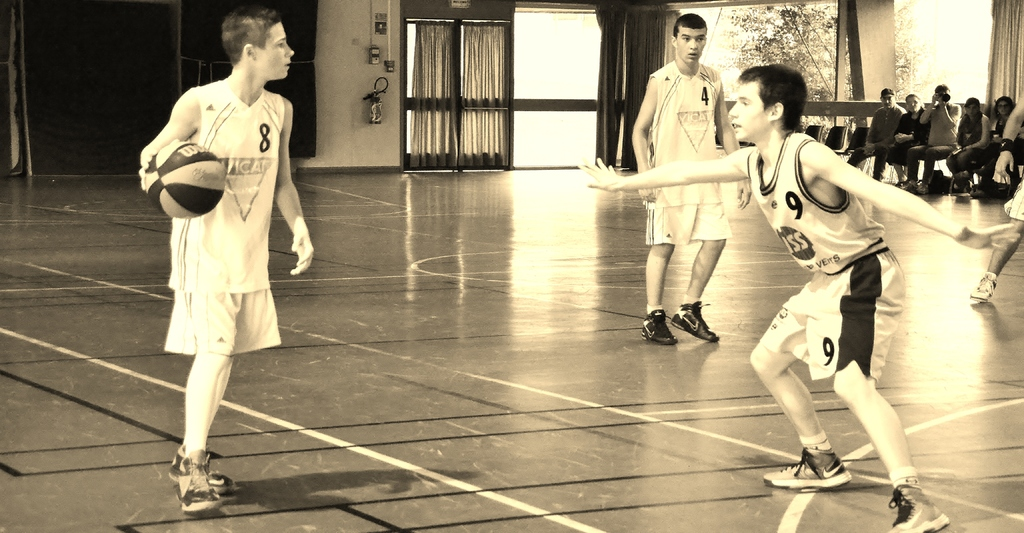Person: (577, 59, 1021, 533), (135, 2, 314, 512), (632, 11, 751, 344), (970, 91, 1024, 302), (883, 94, 930, 188), (981, 96, 1021, 198), (947, 97, 990, 190)
